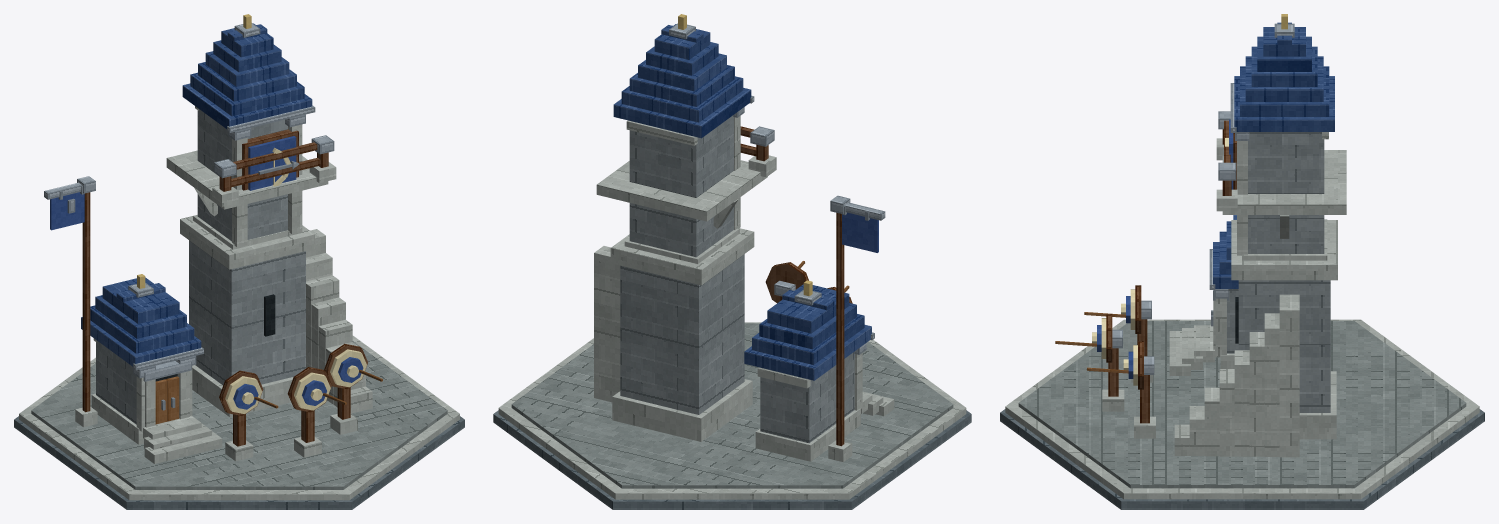
The model's file is ranger_mastery_hex_v1.glb.
The picture shows the model from 3 angles, left to right: view 1: azimuth 30°, elevation 25°; view 2: azimuth 150°, elevation 25°; view 3: azimuth 270°, elevation 25°; orthographic projection. The views are drawn at different scales.
Visible parts, largest first — view 1: Ranger_Mastery_Hex_V1_Foundation, Ranger_Mastery_Hex_V1_Focus, Ranger_Mastery_Hex_V1_Roofs, Ranger_Mastery_Hex_V1_Courtyard, Ranger_Mastery_Hex_V1_Hall, Ranger_Mastery_Hex_V1_Training, Ranger_Mastery_Hex_V1_Faction, Ranger_Mastery_Hex_V1_Details; view 2: Ranger_Mastery_Hex_V1_Foundation, Ranger_Mastery_Hex_V1_Focus, Ranger_Mastery_Hex_V1_Roofs, Ranger_Mastery_Hex_V1_Hall, Ranger_Mastery_Hex_V1_Courtyard, Ranger_Mastery_Hex_V1_Faction, Ranger_Mastery_Hex_V1_Details, Ranger_Mastery_Hex_V1_Training; view 3: Ranger_Mastery_Hex_V1_Foundation, Ranger_Mastery_Hex_V1_Courtyard, Ranger_Mastery_Hex_V1_Focus, Ranger_Mastery_Hex_V1_Roofs, Ranger_Mastery_Hex_V1_Hall, Ranger_Mastery_Hex_V1_Training, Ranger_Mastery_Hex_V1_Details.
Boxes of the visible parts, x1,y1,x2,y2 form: Ranger_Mastery_Hex_V1_Foundation: (14,335,464,509); Ranger_Mastery_Hex_V1_Focus: (166,150,328,416); Ranger_Mastery_Hex_V1_Roofs: (81,14,315,370); Ranger_Mastery_Hex_V1_Courtyard: (143,135,372,463); Ranger_Mastery_Hex_V1_Hall: (91,109,301,444); Ranger_Mastery_Hex_V1_Training: (219,343,382,461); Ranger_Mastery_Hex_V1_Faction: (44,129,299,427); Ranger_Mastery_Hex_V1_Details: (93,106,305,431); Ranger_Mastery_Hex_V1_Foundation: (493,322,971,509); Ranger_Mastery_Hex_V1_Focus: (596,160,767,441); Ranger_Mastery_Hex_V1_Roofs: (613,14,874,380); Ranger_Mastery_Hex_V1_Hall: (624,115,860,461); Ranger_Mastery_Hex_V1_Courtyard: (594,126,894,416); Ranger_Mastery_Hex_V1_Faction: (828,195,885,462); Ranger_Mastery_Hex_V1_Details: (626,107,866,410); Ranger_Mastery_Hex_V1_Training: (765,261,852,303); Ranger_Mastery_Hex_V1_Foundation: (1000,319,1484,509); Ranger_Mastery_Hex_V1_Courtyard: (1169,111,1299,457); Ranger_Mastery_Hex_V1_Focus: (1222,150,1346,439); Ranger_Mastery_Hex_V1_Roofs: (1209,14,1334,289); Ranger_Mastery_Hex_V1_Hall: (1213,132,1327,368); Ranger_Mastery_Hex_V1_Training: (1055,285,1155,438); Ranger_Mastery_Hex_V1_Details: (1211,132,1328,355).
Bounding box in the file's own units: 1.59 × 1.76 × 1.84.
1 material, 1 textured.
